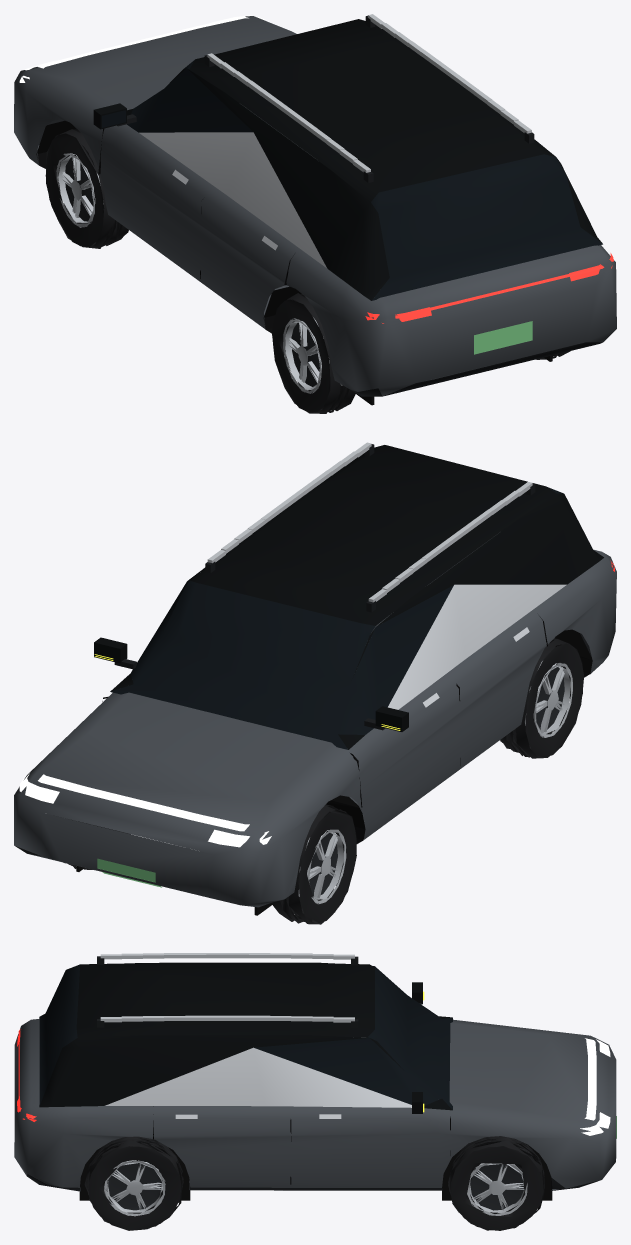
Rendered from gz_suv_lod2.glb.
3 views of the same model, one above another, from view 1: azimuth 30°, elevation 25°; view 2: azimuth 150°, elevation 25°; view 3: azimuth 270°, elevation 25° (orthographic). The views are drawn at different scales.
Parts seen in each view (by area): view 1: vehicle_lod2; view 2: vehicle_lod2; view 3: vehicle_lod2.
Boxes of the visible parts, x1=… form: vehicle_lod2: x1=14, y1=14, x2=616, y2=413; vehicle_lod2: x1=14, y1=442, x2=616, y2=924; vehicle_lod2: x1=14, y1=953, x2=616, y2=1230.
Size of the model in its own units: 2.31 by 1.78 by 4.91.
